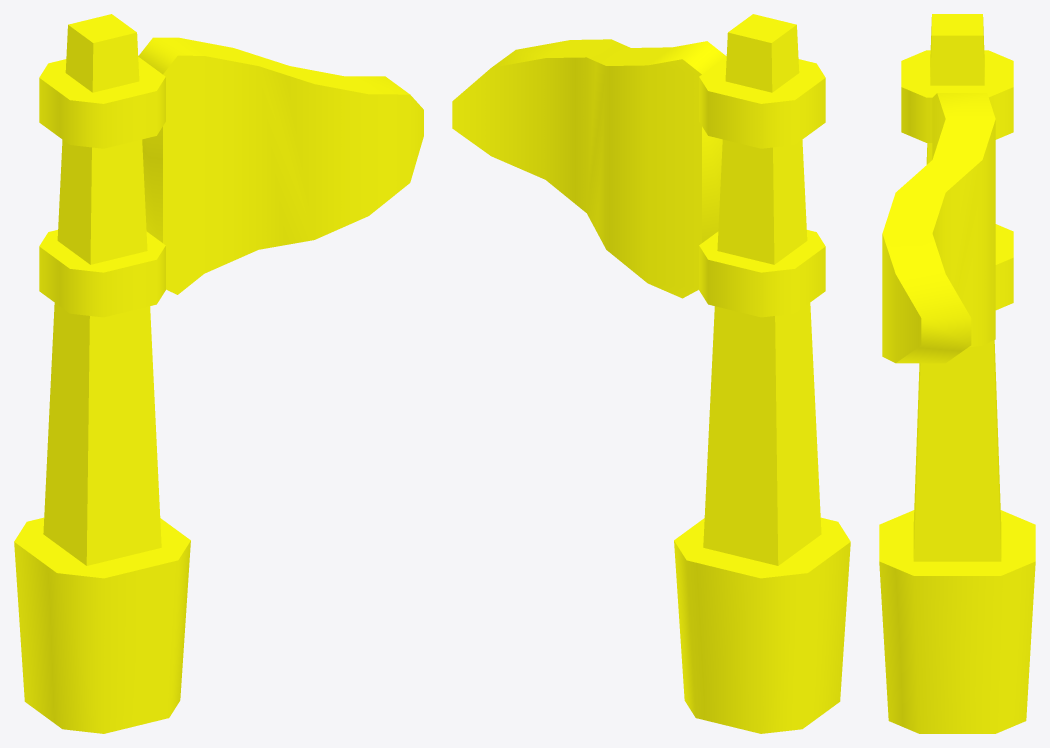
File: _fbx_all_flag.glb
3 views of the same model, side by side, from view 1: azimuth 30°, elevation 25°; view 2: azimuth 150°, elevation 25°; view 3: azimuth 270°, elevation 25° (orthographic).
Parts seen in each view (by area): view 1: flag; view 2: flag; view 3: flag.
Part boxes in pixels (x1=…): flag: x1=14, y1=14, x2=423, y2=733; flag: x1=452, y1=14, x2=850, y2=733; flag: x1=879, y1=14, x2=1035, y2=733.
Size of the model in its own units: 0.4323 by 0.75 by 0.1564.
Materials: 1 (1 with a texture image).
